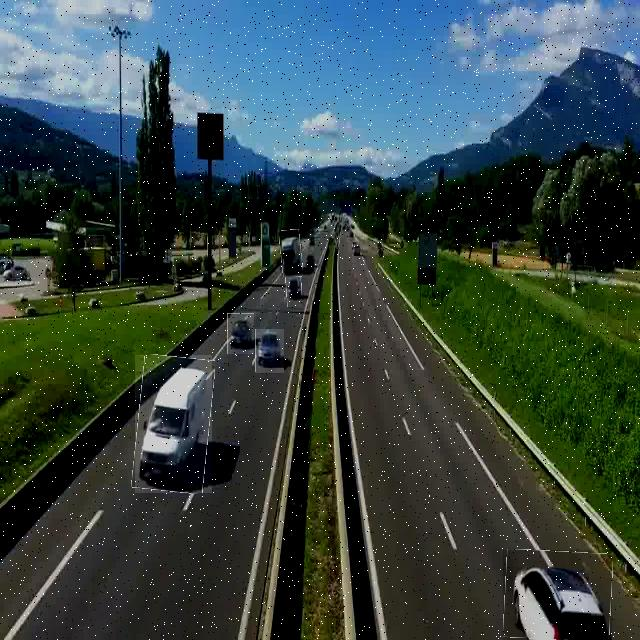Car: (135, 355, 212, 493), (503, 550, 612, 640), (255, 329, 284, 374), (227, 313, 254, 354), (285, 272, 302, 307)
Truck: (280, 230, 302, 277)
